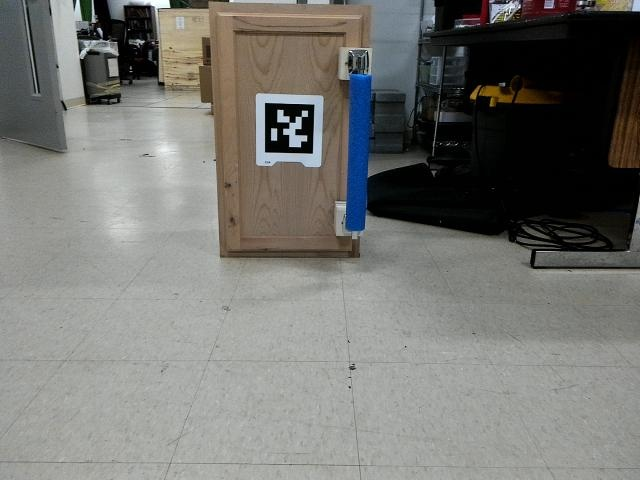noodle_handle: (339, 67, 373, 240)
